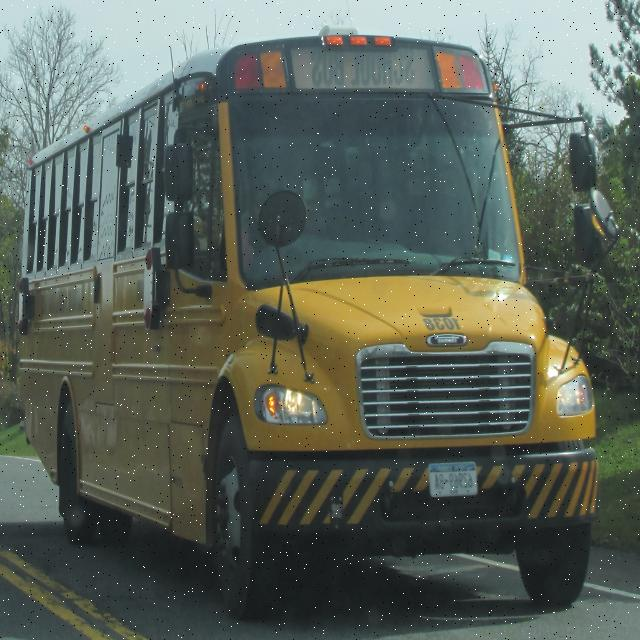Bus: (16, 32, 612, 609)
